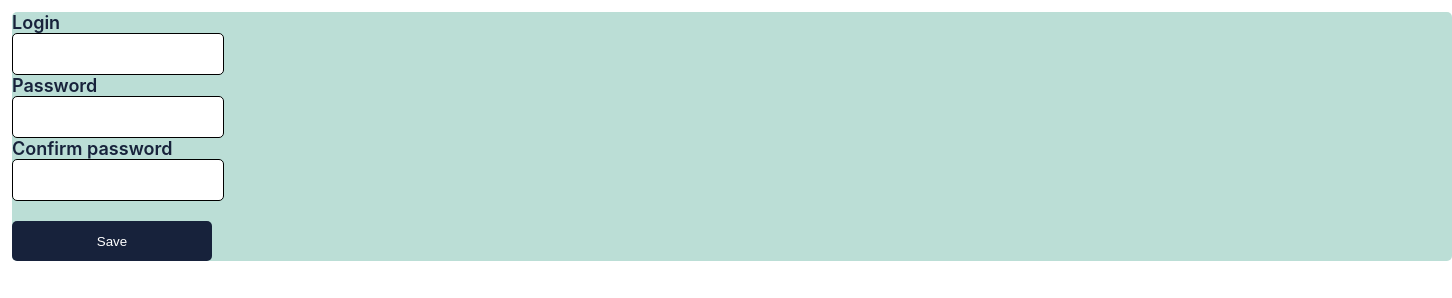
Test: UserAdd form should throw error when name exists
The image size is (1452, 298).
In the field named "login": point(118, 54) [12,33,224,75], type "teste"
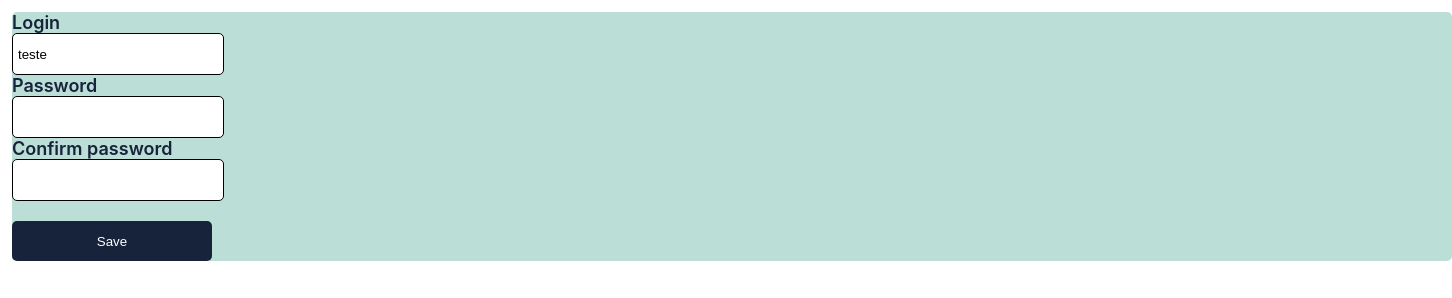
In the 1st password field named "password": point(118, 117) [12,96,224,138], type "123"
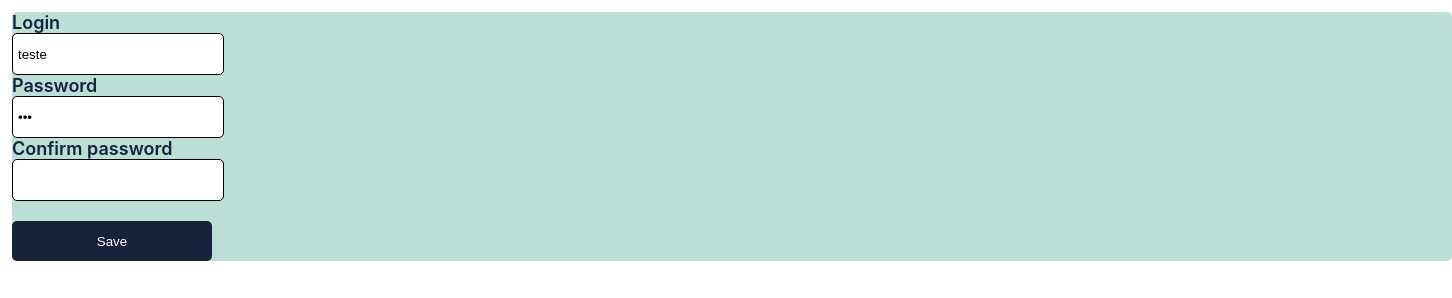
In the password field named "confirmPassword" below "Confirm password": point(118, 180) [12,159,224,201], type "123"
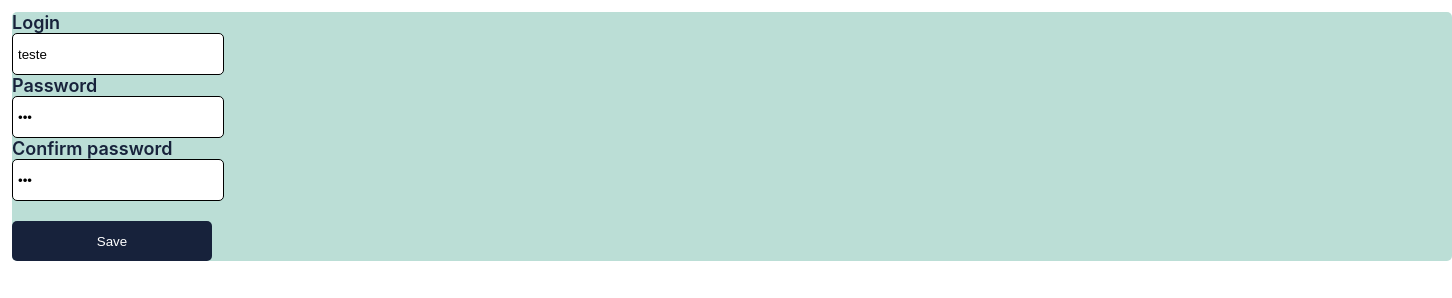
Click the submit button: point(112, 241) [12,221,212,261]
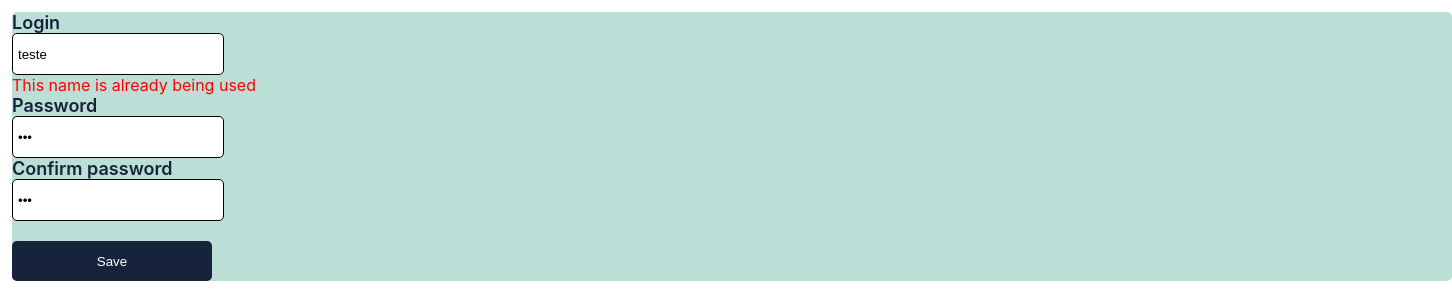
Result: the text "This name is already being used" is shown at [12,75,256,95]
